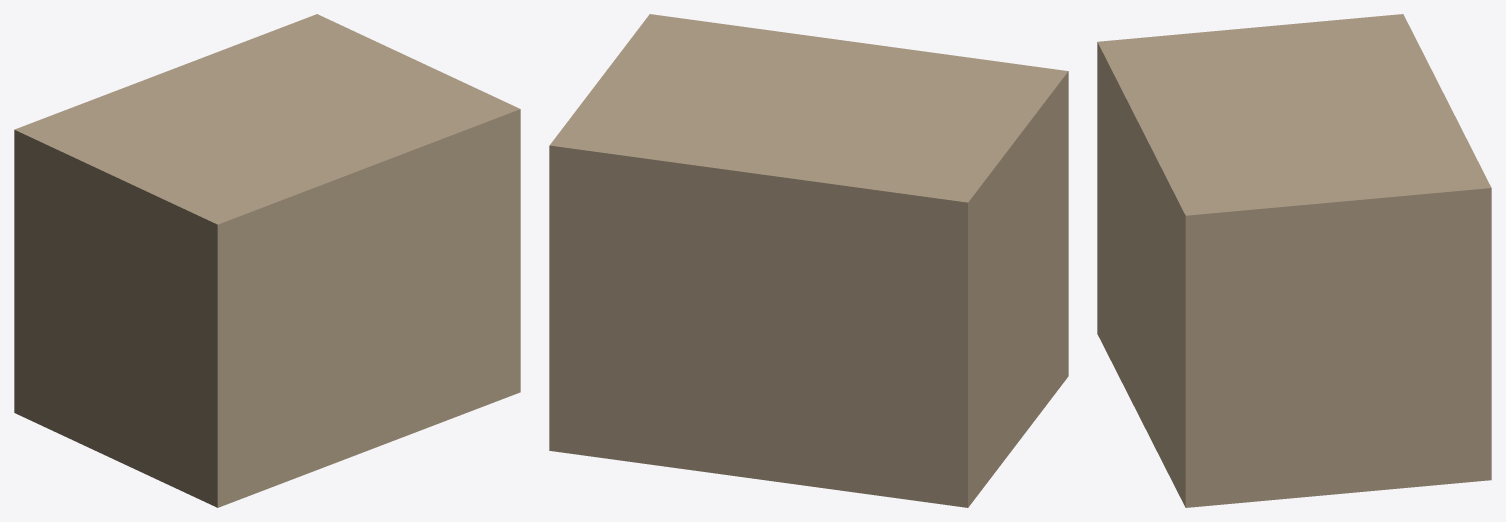
File: bld_106456024.dae
The picture shows the model from 3 angles, left to right: view 1: azimuth 30°, elevation 25°; view 2: azimuth 150°, elevation 25°; view 3: azimuth 270°, elevation 25°; orthographic projection. The views are drawn at different scales.
Visible parts, largest first — view 1: bld_106456024; view 2: bld_106456024; view 3: bld_106456024.
Part boxes in pixels (x1,y1,x2,y2): bld_106456024: (14, 14, 520, 507); bld_106456024: (549, 14, 1068, 507); bld_106456024: (1097, 14, 1491, 507).
Size of the model in its own units: 11.85 by 9.78 by 8.
